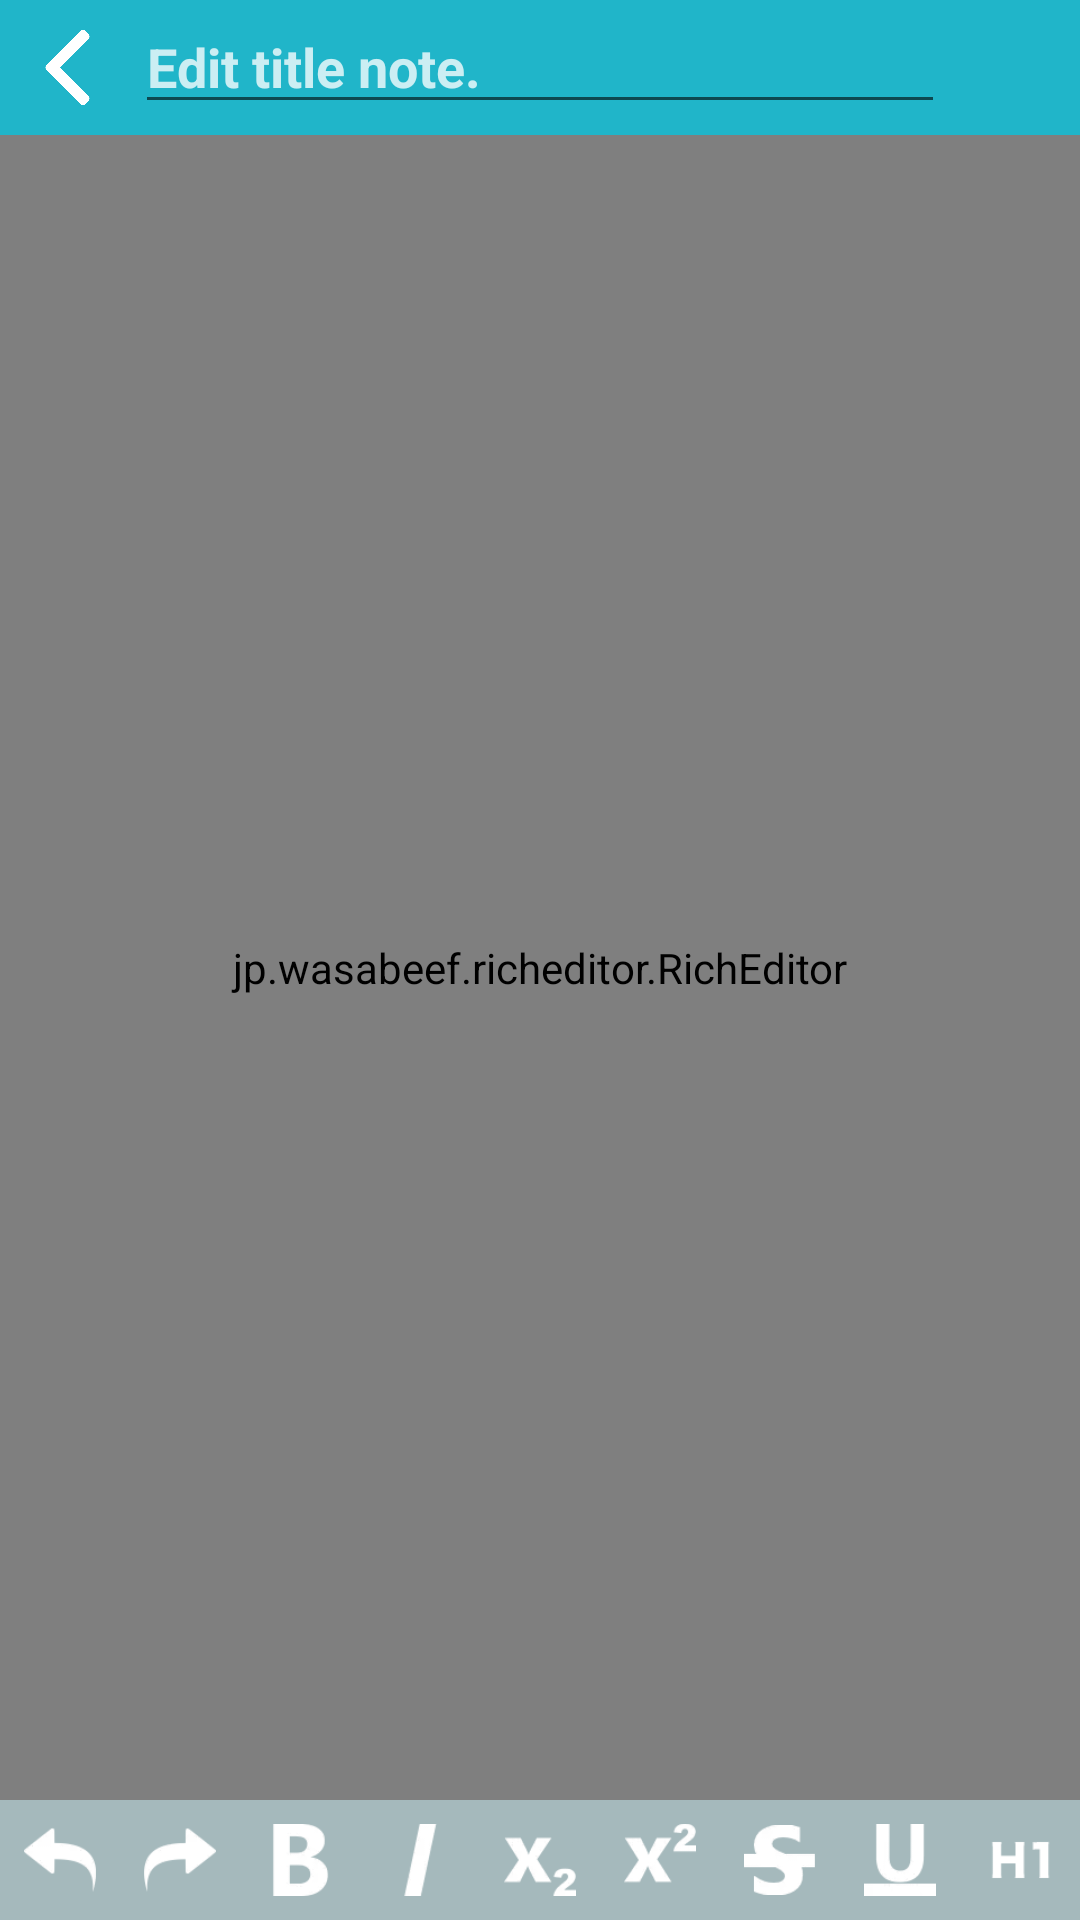

Screen size 1080x1920. Icon name, then its box in pixels as region(x1, y1, x2, y2):
back arrow: region(45, 30, 90, 105)
italic: region(404, 1824, 436, 1896)
redo: region(144, 1828, 216, 1890)
strikethrough: region(744, 1825, 815, 1895)
subscript: region(504, 1837, 576, 1896)
superscript: region(624, 1824, 696, 1882)
underline: region(864, 1824, 936, 1896)
undo: region(24, 1828, 96, 1890)
